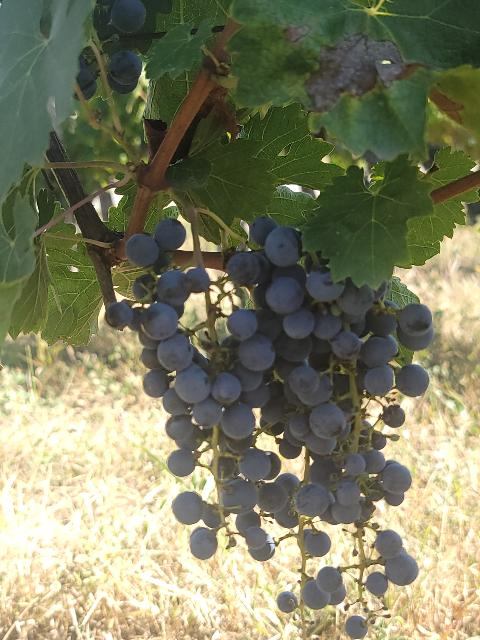grapes: (250, 220, 434, 638), (226, 220, 434, 529), (105, 219, 288, 560)
